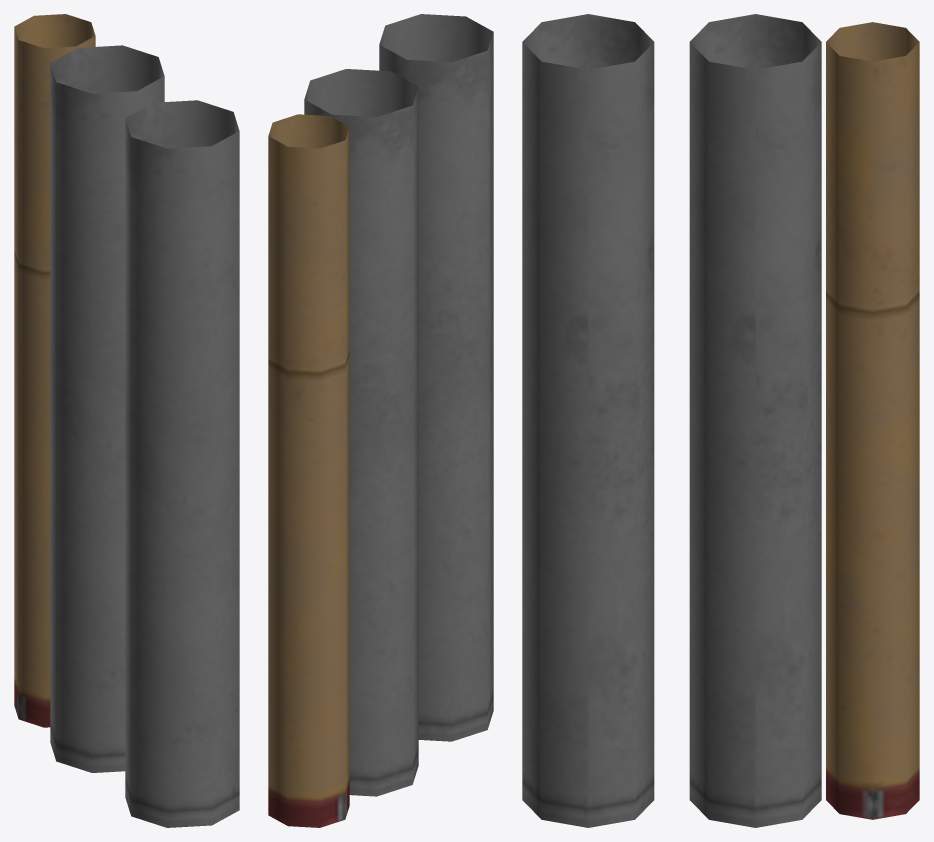
The model's file is CP_Pipe_F_1m_01.fbx.
The picture shows the model from 3 angles, left to right: view 1: azimuth 30°, elevation 25°; view 2: azimuth 150°, elevation 25°; view 3: azimuth 270°, elevation 25°; orthographic projection. The views are drawn at different scales.
Visible parts, largest first — view 1: CP_Pipe_F_1m_01; view 2: CP_Pipe_F_1m_01; view 3: CP_Pipe_F_1m_01.
Part boxes in pixels (x1,y1,x2,y2): CP_Pipe_F_1m_01: (14,14,239,827); CP_Pipe_F_1m_01: (268,14,493,827); CP_Pipe_F_1m_01: (522,14,919,827).
Size of the model in its own units: 15.78 by 100 by 47.49.
